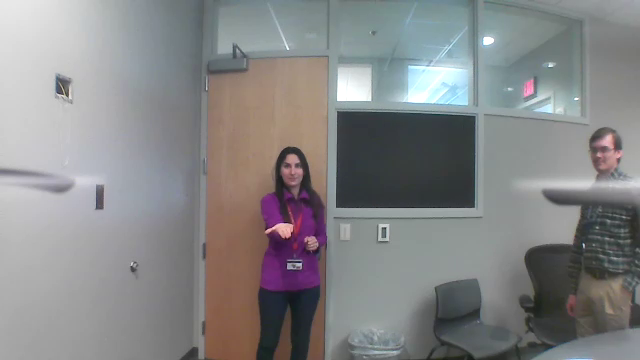land: (262, 219, 295, 241)
